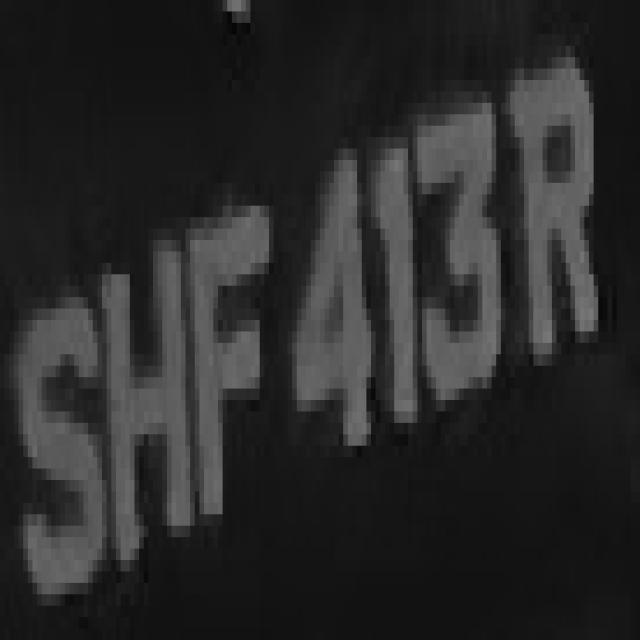1: (371, 126, 417, 468)
3: (408, 91, 496, 480)
4: (274, 126, 371, 468)
F: (180, 194, 274, 537)
H: (88, 217, 200, 583)
R: (501, 23, 617, 400)
S: (5, 252, 111, 594)
